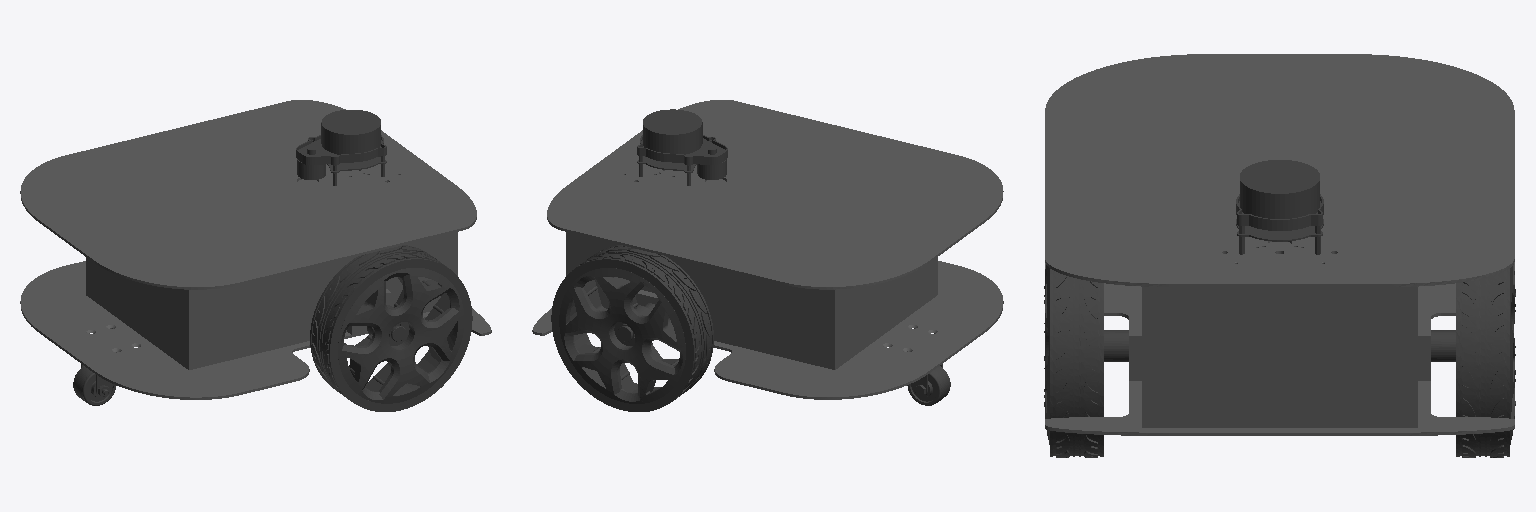
URDF robot description (stella):
<?xml version="1.0" ?>
<robot name="stella" xmlns:xacro="http://ros.org/wiki/xacro">

  <!-- Init colour -->
  <material name="black">
      <color rgba="0.0 0.0 0.0 1.0"/>
  </material>

  <material name="dark">
    <color rgba="0.3 0.3 0.3 1.0"/>
  </material>

  <material name="light_black">
    <color rgba="0.4 0.4 0.4 1.0"/>
  </material>

  <material name="blue">
    <color rgba="0.2 0.2 0.8 1.0"/>
  </material>

  <material name="green">
    <color rgba="0.0 0.8 0.0 1.0"/>
  </material>

  <material name="grey">
    <color rgba="0.5 0.5 0.5 1.0"/>
  </material>

  <material name="orange">
    <color rgba="1.0 0.4235 0.0392 1.0"/>
  </material>

  <material name="brown">
    <color rgba="0.8706 0.8118 0.7647 1.0"/>
  </material>

  <material name="red">
    <color rgba="0.8 0.0 0.0 1.0"/>
  </material>

  <material name="white">
    <color rgba="1.0 1.0 1.0 1.0"/>
  </material>

  <link name="base_footprint"/>

  <joint name="base_joint" type="fixed">
    <parent link="base_footprint"/>
    <child link="base_link" />
    <origin xyz="0.0 0.0 0.0669" rpy="0.0 0.0 0.0"/>
  </joint>

  <link name="base_link">
    <visual>
      <origin xyz="0.01 0.0 0.0" rpy="0.0 0.0 0.0"/>
      <geometry>
        <mesh filename="package://stella_description/meshes/bases/stella_body.stl" scale="0.001 0.001 0.001"/>
      </geometry>
      <material name="light_black"/>
    </visual>

    <collision>
      <origin xyz="0.01 0.0 0.0685" rpy="0.0 0.0 0.0"/>
      <geometry>
        <box size="0.44 0.38 0.1371"/>
      </geometry>
    </collision>
    
    <inertial>
      <origin xyz="-0.1 0.0 0.0" rpy="0.0 0.0 0.0"/>
      <mass value="5.311"/>
      <inertia ixx="0.07221587992" ixy="0.0" ixz="0.0"
               iyy="0.09399097992" iyz="0.0"
               izz="0.14959316667" />
    </inertial>
  </link>

  <joint name="imu_joint" type="fixed">
    <parent link="base_link"/>
    <child link="imu_link"/>
    <origin xyz="0.0 0.0 0.001" rpy="0.0 0.0 0.0"/>
  </joint>

  <link name="imu_link"/>

  <joint name="scan_joint" type="fixed">
    <parent link="base_link"/>
    <child link="base_scan"/>
    <origin xyz="0.145 0.0 0.178" rpy="0.0 0.0 0.0"/>
  </joint>

  <link name="base_scan">
    <visual>
      <origin xyz="-0.06775 -0.0355 -0.0415" rpy="0.0 0.0 0.0"/>
      <geometry>
        <mesh filename="package://stella_description/meshes/bases/ydlidar_x4.STL" scale="0.001 0.001 0.001"/>
      </geometry>
      <material name="dark"/>
    </visual>

    <collision>
      <origin xyz="-0.06775 -0.0355 -0.0415" rpy="0.0 0.0 0.0"/>
      <geometry>
        <cylinder length="0.0315" radius="0.055"/>
      </geometry>
    </collision>

    <inertial>
      <origin xyz="-0.06775 -0.0355 -0.0415" rpy="0.0 0.0 0.0"/>
      <mass value="0.189" />
      <inertia ixx="0.00015856" ixy="0.0" ixz="0.0"
               iyy="0.00015856" iyz="0.0"
               izz="0.00028586"/>
    </inertial>
  </link>

  <joint name="caster_joint" type="continuous">
    <parent link="base_link"/>
    <child link="caster_link"/>
    <origin xyz="-0.1566 0.0 0.0" rpy="0.0 0.0 0.0"/>
    <axis xyz="0 0 1"/>
    <limit effort="10000" velocity="1000"/>
    <joint_properties damping="1.0" friction="1.0"/>
  </joint>

  <link name="caster_link">
    <visual>
      <origin xyz="0.0 0.0 0.002" rpy="0.0 0.0 3.1416"/>
      <geometry>
        <mesh filename="package://stella_description/meshes/bases/STELLA_N1_caster.stl" scale="0.00106 0.00106 0.00106"/>
      </geometry>
      <material name="dark"/>
    </visual>

    <collision>
      <origin xyz="0.0 0.0 0.002" rpy="0.0 0.0 1.5708"/>
      <geometry>
        <mesh filename="package://stella_description/meshes/bases/STELLA_N1_caster.stl" scale="0.00106 0.00106 0.00106"/>
      </geometry>
    </collision>

    <inertial>
      <origin xyz="0.0 0.0 0.0" rpy="0.0 0.0 4.7134"/>
      <mass value="0.01" />
      <inertia ixx="3.083333e-06" ixy="0.0" ixz="0.0"
               iyy="3.083333e-06" iyz="0.0"
               izz="2.000000e-06"/>
    </inertial>
  </link>

  <joint name="caster_wheel_joint" type="continuous">
    <parent link="caster_link"/>
    <child link="caster_wheel_link"/>
    <origin xyz="-0.02385 0.0 -0.0452" rpy="1.5708 0.0 0.0"/>
    <axis xyz="0 0 1"/>
    <limit effort="10000" velocity="1000"/>
    <joint_properties damping="1.0" friction="1.0"/>
  </joint>

  <link name="caster_wheel_link">
    <visual>
      <origin xyz="0.0 0.0 0.0" rpy="0.0 0.0 0.0"/>
      <geometry>
        <cylinder length="0.02" radius="0.0215"/>
      </geometry>
      <material name="dark"/>
    </visual>

    <collision>
      <origin xyz="0.0 0.0 0.0" rpy="0.0 0.0 0.0"/>
      <geometry>
        <cylinder length="0.02" radius="0.0215"/>
      </geometry>
    </collision>

    <inertial>
      <origin xyz="0.0 0.0 0.0" rpy="0.0 0.0 0.0"/>
      <mass value="0.01" />
      <inertia ixx="1.4889583e-06" ixy="0.0" ixz="0.0"
               iyy="1.4889583e-06" iyz="0.0"
               izz="2.3112499e-06"/>
    </inertial>
    
  </link>

  <joint name="wheel_l_joint" type="continuous">
    <parent link="base_link"/>
    <child link="wheel_l_link"/>
    <origin xyz="0.098 0.12 0.0235" rpy="-1.5708 0.0 0.0"/>
    <axis xyz="0 0 1"/>
    <limit effort="10000" velocity="1000"/>
    <joint_properties damping="1.0" friction="1.0"/>
  </joint>

  <link name="wheel_l_link">
    <visual>
      <origin xyz="0.0 0.0 0.0" rpy="0.0 0.0 0.0"/>
      <geometry>
        <mesh filename="package://stella_description/meshes/bases/STELLA_N1_wheel.stl" scale="0.001 0.001 0.001"/>
      </geometry>
      <material name="dark"/>
    </visual>

    <collision>
      <origin xyz="0.0 0.0 0.0307" rpy="0.0 0.0 0.0"/>
      <geometry>
        <cylinder length="0.0615" radius="0.09"/>
      </geometry>
    </collision>

    <inertial>
      <origin xyz="0.0 0.0 0.0" rpy="0.0 0.0 0.0"/>
      <mass value="0.84" />
      <inertia ixx="0.00184275" ixy="0.0" ixz="0.0"
               iyy="0.00184275" iyz="0.0"
               izz="0.003402"/>
    </inertial>
  </link>

  <joint name="wheel_r_joint" type="continuous">
    <parent link="base_link"/>
    <child link="wheel_r_link"/>
    <origin xyz="0.098 -0.12 0.0235" rpy="-1.5708 0.0 0.0"/>
    <axis xyz="0 0 1"/>
    <limit effort="10000" velocity="1000"/>
    <joint_properties damping="1.0" friction="1.0"/>
  </joint>

  <link name="wheel_r_link">
    <visual>
      <origin xyz="0.0 0.0 0.0" rpy="3.1415 0.0 0.0"/>
      <geometry>
        <mesh filename="package://stella_description/meshes/bases/STELLA_N1_wheel.stl" scale="0.001 0.001 0.001"/>
      </geometry>
      <material name="dark"/>
    </visual>

    <collision>
      <origin xyz="0.0 0.0 -0.0307" rpy="0.0 0.0 0.0"/>
      <geometry>
        <cylinder length="0.0615" radius="0.09"/>
      </geometry>
    </collision>

    <inertial>
      <origin xyz="0.0 0.0 0.0" rpy="3.1415 0.0 0.0"/>
      <mass value="0.84" />
      <inertia ixx="0.00184275" ixy="0.0" ixz="0.0"
               iyy="0.00184275" iyz="0.0"
               izz="0.003402"/>
    </inertial>
  </link>

  <joint name="cam_joint" type="fixed">
    <parent link="base_link"/>
    <child link="cam_link"/>
    <origin xyz="0.21 0.0 0.025" rpy="0.0 0.0 0.0"/>
  </joint>

  <link name="cam_link"/>

  <gazebo reference="base_link">
    <material>Gazebo/DarkGrey</material>
  </gazebo>

  <gazebo reference="imu_link">
    <gravity>true</gravity>
    <sensor type="imu" name="imu">
      <always_on>true</always_on>
      <update_rate>100</update_rate>
      <imu>
        <angular_velocity>
          <x>
            <noise type="gaussian">
              <mean>0.0</mean>
              <stddev>2e-4</stddev>
            </noise>
          </x>
          <y>
            <noise type="gaussian">
              <mean>0.0</mean>
              <stddev>2e-4</stddev>
            </noise>
          </y>
          <z>
            <noise type="gaussian">
              <mean>0.0</mean>
              <stddev>2e-4</stddev>
            </noise>
          </z>
        </angular_velocity>
        <linear_acceleration>
          <x>
            <noise type="gaussian">
              <mean>0.0</mean>
              <stddev>1.7e-2</stddev>
            </noise>
          </x>
          <y>
            <noise type="gaussian">
              <mean>0.0</mean>
              <stddev>1.7e-2</stddev>
            </noise>
          </y>
          <z>
            <noise type="gaussian">
              <mean>0.0</mean>
              <stddev>1.7e-2</stddev>
            </noise>
          </z>
        </linear_acceleration>
      </imu>
      <plugin name="AHRS" filename="libgazebo_ros_imu_sensor.so">
        <ros>
          <namespace>imu</namespace>
          <remapping>~/out:=data</remapping>
        </ros>
        <initial_orientation_as_reference>false</initial_orientation_as_reference>
      </plugin>
    </sensor>
  </gazebo>

  <gazebo reference="cam_link">
    <sensor name="cam" type="camera">
      <update_rate>10</update_rate>
      <always_on>1</always_on>
      <camera name="camera">
        <horizontal_fov>1.3962634</horizontal_fov>
        <image>
          <width>1920</width>
          <height>1080</height>
          <format>R8G8B8</format>
        </image>
        <clip>
          <near>0.01</near>
          <far>20</far>
        </clip>
        <distortion>
          <k1>0.0</k1>
          <k2>0.0</k2>
          <k3>0.0</k3>
          <p1>0.0</p1>
          <p2>0.0</p2>
          <center>0.5 0.5</center>
        </distortion>
      </camera>
      <plugin filename="libgazebo_ros_camera.so" name="cam_controller">
        <ros>
          <remapping>~/image_raw:=image_raw</remapping>
          <remapping>~/camera_info:=camera_info</remapping>
        </ros>
        <camera_name>camera</camera_name>
        <frame_name>cam_link</frame_name>
      </plugin>
    </sensor>
  </gazebo>

  <gazebo reference="base_scan">
    <material>Gazebo/FlatBlack</material>
    <sensor type="ray" name="ydlidar">
      <pose>0 0 0 0 0 0</pose>
      <ray>
        <scan>
          <horizontal>
            <samples>360</samples>
            <resolution>2.0</resolution>
            <min_angle>-3.141592</min_angle>
            <max_angle>3.141592</max_angle>
          </horizontal>
        </scan>
        <range>
          <min>0.12</min>
          <max>10.0</max>
          <resolution>0.015</resolution>
        </range>
        <noise>
          <type>gaussian</type>
          <mean>0.0</mean>
          <stddev>0.01</stddev>
        </noise>
      </ray>
      <always_on>true</always_on>
      <visualize>false</visualize>
      <update_rate>5</update_rate>
      <plugin name="ydlidar" filename="libgazebo_ros_ray_sensor.so">
        <ros>
          <remapping>~/out:=scan</remapping>
        </ros>
        <output_type>sensor_msgs/LaserScan</output_type>
      </plugin>
    </sensor>
  </gazebo>

  <gazebo reference="caster_link">
    <kp>500000.0</kp>
    <kd>50.0</kd>
    <mu1>0.1</mu1>
    <mu2>0.1</mu2>
    <material>Gazebo/FlatBlack</material>
  </gazebo>

  <gazebo reference="caster_wheel_link">
    <kp>500000.0</kp>
    <kd>50.0</kd>
    <mu1>0.1</mu1>
    <mu2>0.1</mu2>
    <material>Gazebo/FlatBlack</material>
  </gazebo>

  <gazebo reference="wheel_l_link">
    <kp>500000.0</kp>
    <kd>50.0</kd>
    <mu1>5.0</mu1>
    <mu2>5.0</mu2>
    <material>Gazebo/FlatBlack</material>
  </gazebo>

  <gazebo reference="wheel_r_link">
    <kp>500000.0</kp>
    <kd>50.0</kd>
    <mu1>5.0</mu1>
    <mu2>5.0</mu2>
    <material>Gazebo/FlatBlack</material>
  </gazebo>

  <!-- joint publisher -->
  <gazebo>
    <plugin name="stella_joint_state" filename="libgazebo_ros_joint_state_publisher.so">
      <ros>
        <remapping>~/out:=joint_states</remapping>
      </ros>
      <update_rate>30</update_rate>

      <joint_name>caster_joint</joint_name>
      <joint_name>caster_wheel_joint</joint_name>
      <joint_name>wheel_l_joint</joint_name>
      <joint_name>wheel_r_joint</joint_name>
    </plugin>
  </gazebo>

  <!-- differential drive -->
  <gazebo>
    <plugin name="stella_joint_controller" filename="libgazebo_ros_diff_drive.so">
      <update_rate>30</update_rate>
      <!-- wheel -->
      <left_joint>wheel_l_joint</left_joint>
      <right_joint>wheel_r_joint</right_joint>
      <!-- kinematics -->
      <wheel_separation>0.337</wheel_separation>
      <wheel_diameter>0.18</wheel_diameter>
      <!-- limits -->
      <max_wheel_torque>13.5</max_wheel_torque>
      <max_wheel_acceleration>10.43</max_wheel_acceleration>
      <!-- output -->
      <publish_odom>true</publish_odom>
      <publish_odom_tf>true</publish_odom_tf>
      <publish_wheel_tf>false</publish_wheel_tf>

      <odometry_frame>odom</odometry_frame>
      <odometry_topic>odom</odometry_topic>
      <robot_base_frame>base_footprint</robot_base_frame>
    </plugin>
  </gazebo>

</robot>

--- Facts derived from the render (not from the file) ---
The picture shows the robot from 3 angles, left to right: view 1: azimuth 30°, elevation 25°; view 2: azimuth 150°, elevation 25°; view 3: azimuth 270°, elevation 25°; orthographic projection.
Model stella with 9 links and 8 joints (4 continuous, 4 fixed), rooted at base_footprint, posed all joints at 0.
Links seen in each view (by area): view 1: base_link, wheel_r_link, base_scan, caster_link; view 2: base_link, wheel_l_link, base_scan, caster_link; view 3: base_link, wheel_r_link, wheel_l_link, base_scan.
Link boxes in pixels (bbox=[...]): base_link: bbox=[20, 100, 491, 399]; wheel_r_link: bbox=[310, 245, 472, 411]; base_scan: bbox=[296, 110, 386, 185]; caster_link: bbox=[73, 352, 116, 405]; base_link: bbox=[532, 100, 1003, 399]; wheel_l_link: bbox=[551, 245, 713, 411]; base_scan: bbox=[637, 109, 727, 185]; caster_link: bbox=[907, 364, 950, 405]; base_link: bbox=[1045, 54, 1514, 435]; wheel_r_link: bbox=[1044, 265, 1128, 457]; wheel_l_link: bbox=[1431, 265, 1515, 457]; base_scan: bbox=[1236, 160, 1323, 254].
Bounding box of the posed robot: 0.44 × 0.3813 × 0.2626 m (x, y, z).
5 mesh visuals loaded from 4 distinct referenced files (4 binary STL).
